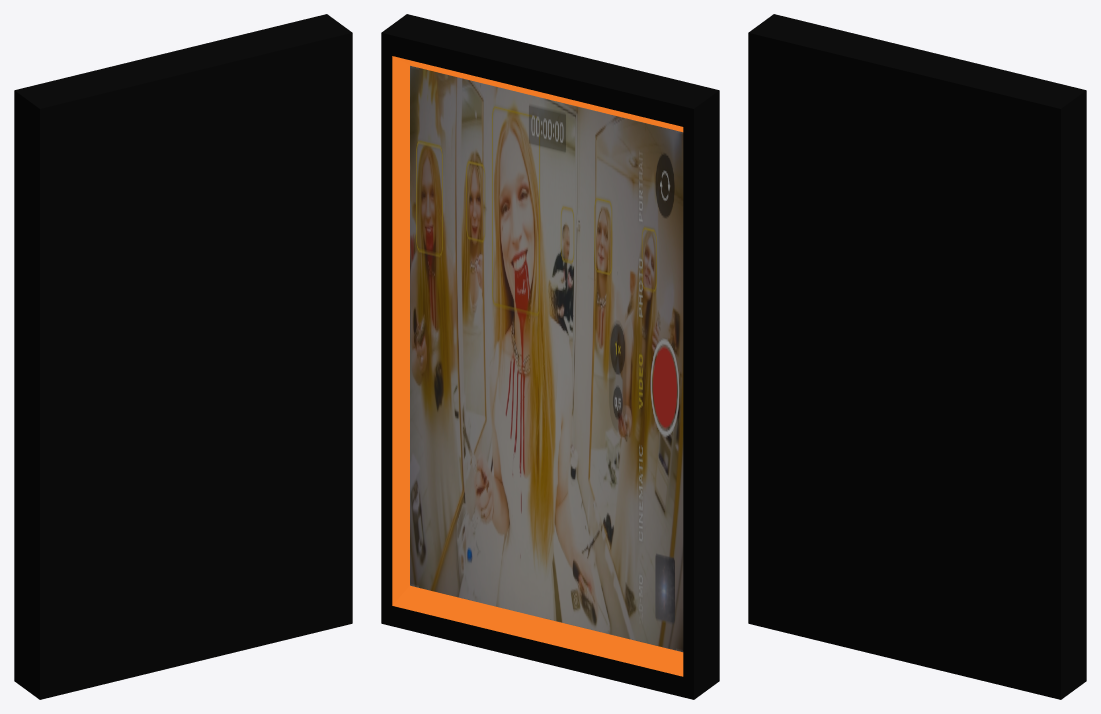
Rendered from PictureFrame11.glb.
3 views of the same model, side by side, from view 1: azimuth 30°, elevation 25°; view 2: azimuth 150°, elevation 25°; view 3: azimuth 330°, elevation 25° (orthographic).
Visible parts, largest first — view 1: Cube.141; view 2: Cube.141; view 3: Cube.141.
Part boxes in pixels (bbox=[...]): Cube.141: bbox=[14, 14, 352, 699]; Cube.141: bbox=[381, 14, 719, 699]; Cube.141: bbox=[748, 14, 1086, 699].
Size of the model in its own units: 2.94 by 5.31 by 0.4176.
Materials: 3 (1 with a texture image).
